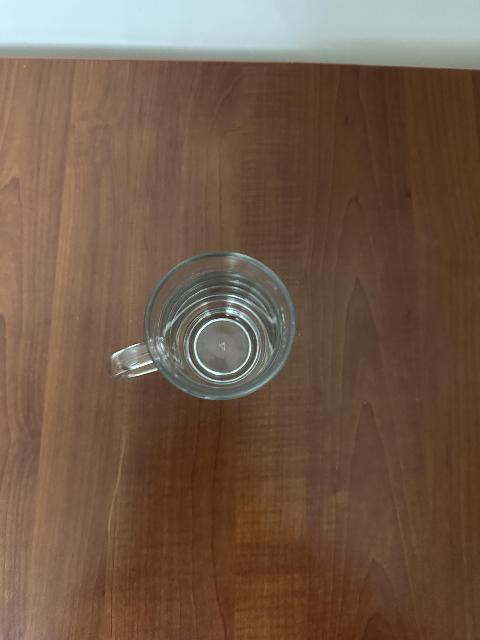Cam: (106, 249, 299, 403)
